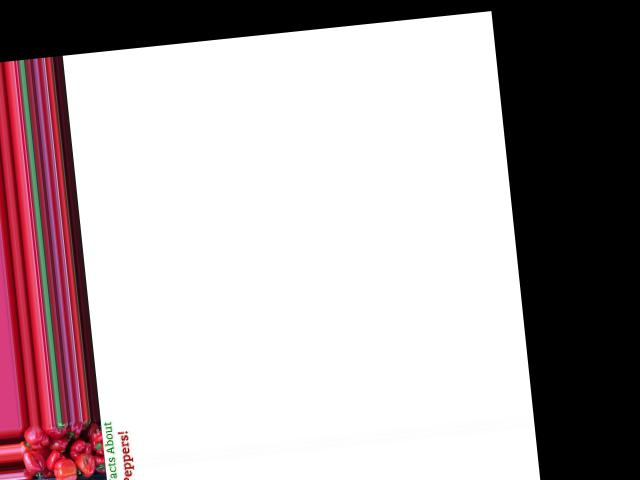bell_pepper: (85, 429, 108, 462)
